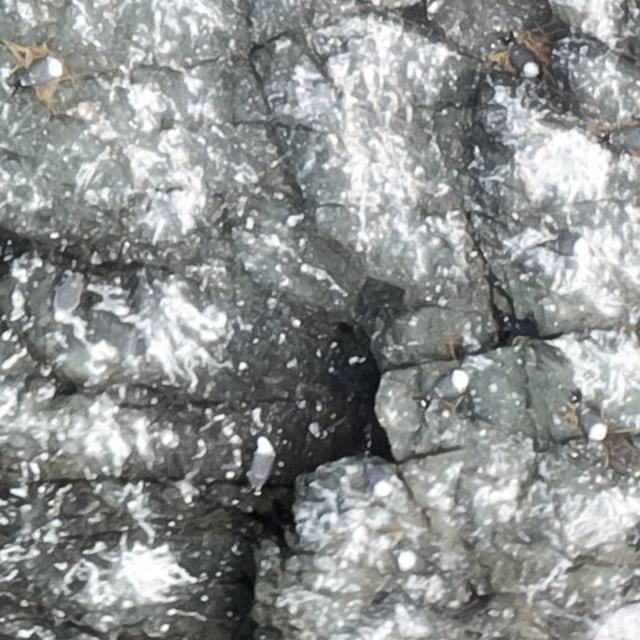umineko: (56, 272, 88, 322), (396, 552, 446, 580), (366, 457, 392, 498), (252, 438, 274, 484), (509, 44, 538, 76), (578, 404, 604, 438), (26, 58, 62, 82), (540, 235, 588, 253), (431, 372, 464, 398), (611, 126, 640, 148)
